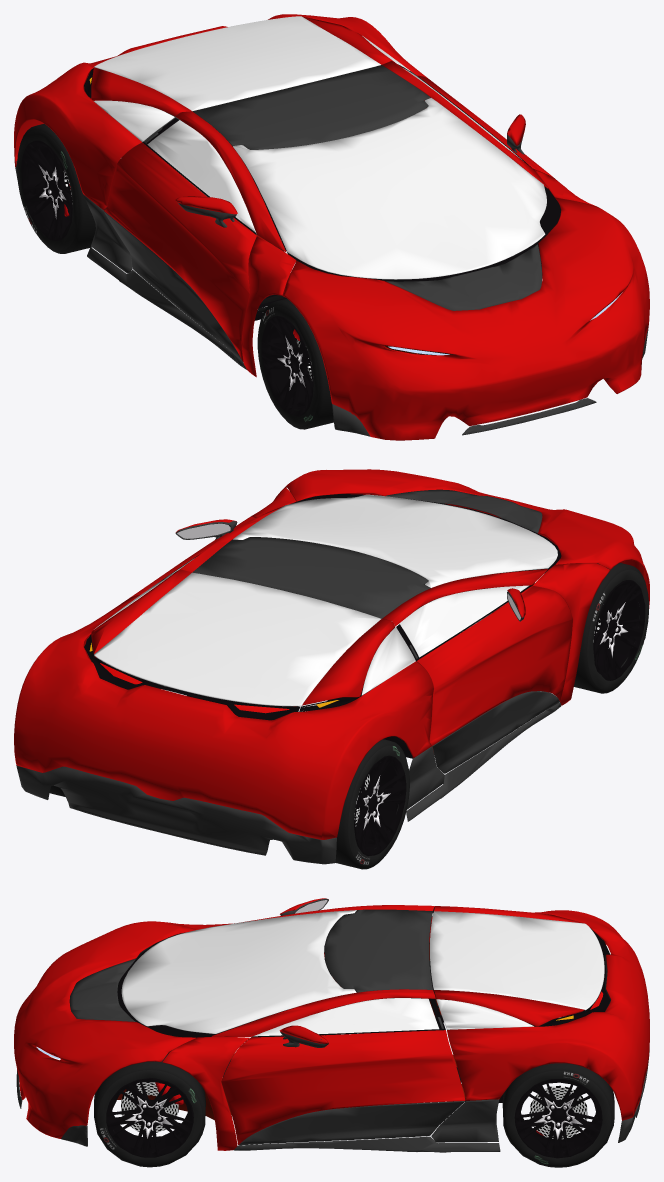
File: car-mid.glb
The picture shows the model from 3 angles, top to bottom: view 1: azimuth 30°, elevation 25°; view 2: azimuth 150°, elevation 25°; view 3: azimuth 270°, elevation 25°; orthographic projection. The views are drawn at different scales.
Visible parts, largest first — view 1: BodyHood, BodyWindshield, BodyRearwindow, BodyDoorRColor1, BodyRearPanelsColor1, BodyRoofPanel, BodyPillars, rim (×2), tyre (×2), BodyPanelsColor2, BodyHoodTopgrill, BodyDoorRWindow (+5 smaller); view 2: BodyRearPanelsColor1, BodyRearwindow, BodyWindshield, BodyPanelsColor2, BodyDoorRColor1, BodyRoofPanel, BodyHood, rim (×2), BodyPillars, tyre (×2), BodyDoorRColor2, BodyDoorRWindow (+3 smaller); view 3: BodyWindshield, BodyRearPanelsColor1, BodyDoorLColor1, BodyHood, BodyRearwindow, rim (×2), tyre (×2), BodyRoofPanel, BodyPillars, BodyDoorLColor2, BodyPanelsColor2, BodyDoorLWindow (+6 smaller).
Part boxes in pixels (left/top/right/bottom): BodyHood: left=282, top=197, right=649, bottom=440; BodyWindshield: left=233, top=98, right=546, bottom=279; BodyRearwindow: left=94, top=16, right=380, bottom=111; BodyDoorRColor1: left=104, top=142, right=256, bottom=361; BodyRearPanelsColor1: left=14, top=14, right=430, bottom=210; BodyRoofPanel: left=192, top=65, right=430, bottom=149; BodyPillars: left=175, top=61, right=596, bottom=377; rim (×2): left=21, top=140, right=313, bottom=416; tyre (×2): left=17, top=123, right=333, bottom=429; BodyPanelsColor2: left=15, top=110, right=648, bottom=436; BodyHoodTopgrill: left=386, top=244, right=542, bottom=310; BodyDoorRWindow: left=147, top=120, right=256, bottom=233; BodyRearPanelsColor1: left=14, top=569, right=433, bottom=839; BodyRearwindow: left=94, top=572, right=380, bottom=706; BodyWindshield: left=233, top=494, right=557, bottom=587; BodyPanelsColor2: left=16, top=571, right=645, bottom=864; BodyDoorRColor1: left=416, top=585, right=572, bottom=745; BodyRoofPanel: left=192, top=537, right=430, bottom=618; BodyHood: left=283, top=469, right=649, bottom=608; rim (×2): left=354, top=580, right=645, bottom=856; BodyPillars: left=178, top=488, right=610, bottom=705; tyre (×2): left=335, top=563, right=648, bottom=869; BodyDoorRColor2: left=432, top=691, right=559, bottom=773; BodyDoorRWindow: left=400, top=585, right=528, bottom=657; BodyWindshield: left=121, top=910, right=356, bottom=1033; BodyRearPanelsColor1: left=434, top=906, right=649, bottom=1120; BodyDoorLColor1: left=221, top=1030, right=465, bottom=1144; BodyHood: left=14, top=921, right=195, bottom=1138; BodyRearwindow: left=430, top=911, right=604, bottom=1010; rim (×2): left=106, top=1078, right=602, bottom=1158; tyre (×2): left=94, top=1054, right=614, bottom=1167; BodyRoofPanel: left=324, top=909, right=432, bottom=992; BodyPillars: left=162, top=905, right=435, bottom=1150; BodyDoorLColor2: left=239, top=1101, right=465, bottom=1145; BodyPanelsColor2: left=16, top=1011, right=649, bottom=1152; BodyDoorLWindow: left=254, top=998, right=439, bottom=1036.
Bounding box in the file's own units: 2.34 × 1.15 × 4.36.
17 materials, 4 textured.
